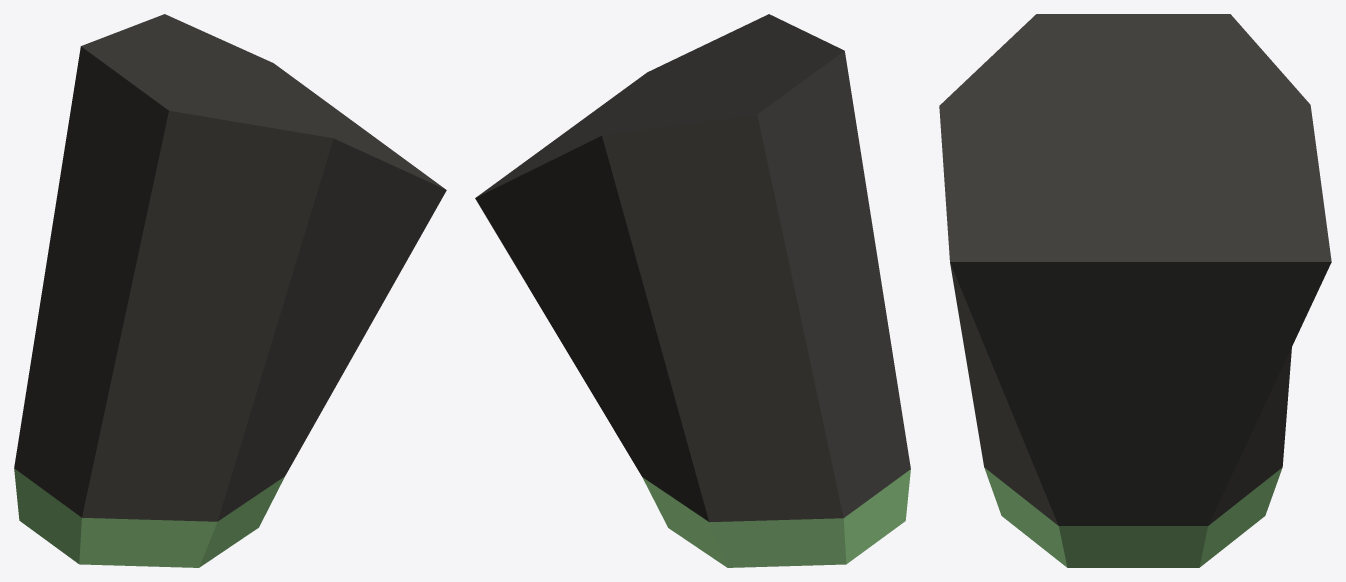
The model's file is RightLegUp.fbx.
The picture shows the model from 3 angles, left to right: view 1: azimuth 30°, elevation 25°; view 2: azimuth 150°, elevation 25°; view 3: azimuth 270°, elevation 25°; orthographic projection. The views are drawn at different scales.
Visible parts, largest first — view 1: RightLegUp; view 2: RightLegUp; view 3: RightLegUp.
Part boxes in pixels (<box>): RightLegUp: <box>14,14,446,567</box>; RightLegUp: <box>475,14,910,567</box>; RightLegUp: <box>939,14,1331,567</box>.
Size of the model in its own units: 74.98 by 103 by 73.34.
